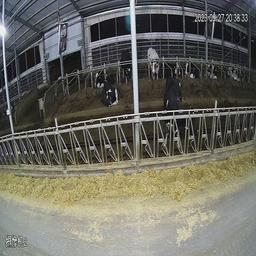cow: (162, 73, 210, 150), (144, 40, 165, 84), (100, 72, 122, 109), (228, 58, 247, 91), (206, 56, 221, 86), (182, 58, 202, 80), (89, 64, 109, 86)
